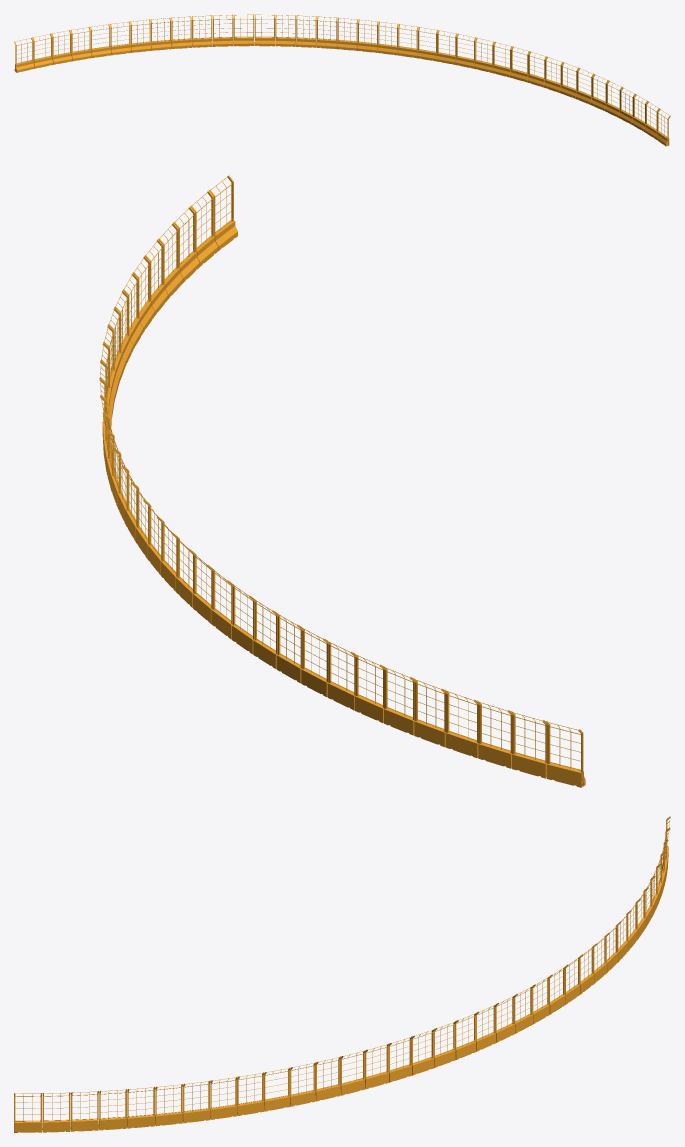
File: SM_Fence_Road_Debrisguard_Bar_60m_Corner_Inner.fbx
3 views of the same model, one above another, from view 1: azimuth 30°, elevation 25°; view 2: azimuth 150°, elevation 25°; view 3: azimuth 270°, elevation 25° (orthographic). The views are drawn at different scales.
Parts seen in each view (by area): view 1: SM_Fence_Road_Debrisguard_Bar_60m_Corner_Inner; view 2: SM_Fence_Road_Debrisguard_Bar_60m_Corner_Inner; view 3: SM_Fence_Road_Debrisguard_Bar_60m_Corner_Inner.
Boxes of the visible parts, <box> form: SM_Fence_Road_Debrisguard_Bar_60m_Corner_Inner: <box>14,14,670,146</box>; SM_Fence_Road_Debrisguard_Bar_60m_Corner_Inner: <box>99,175,585,787</box>; SM_Fence_Road_Debrisguard_Bar_60m_Corner_Inner: <box>14,816,670,1132</box>.
Bounding box in the file's own units: 59.42 × 4.01 × 59.31.
